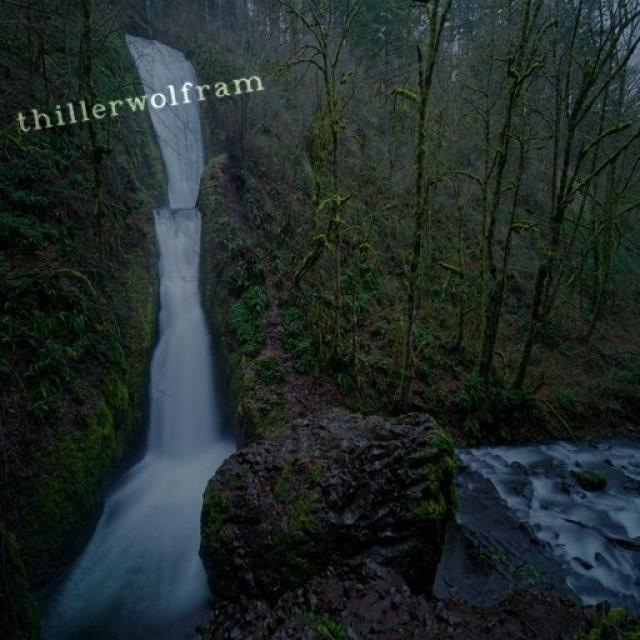watermark: (10, 67, 266, 136)
